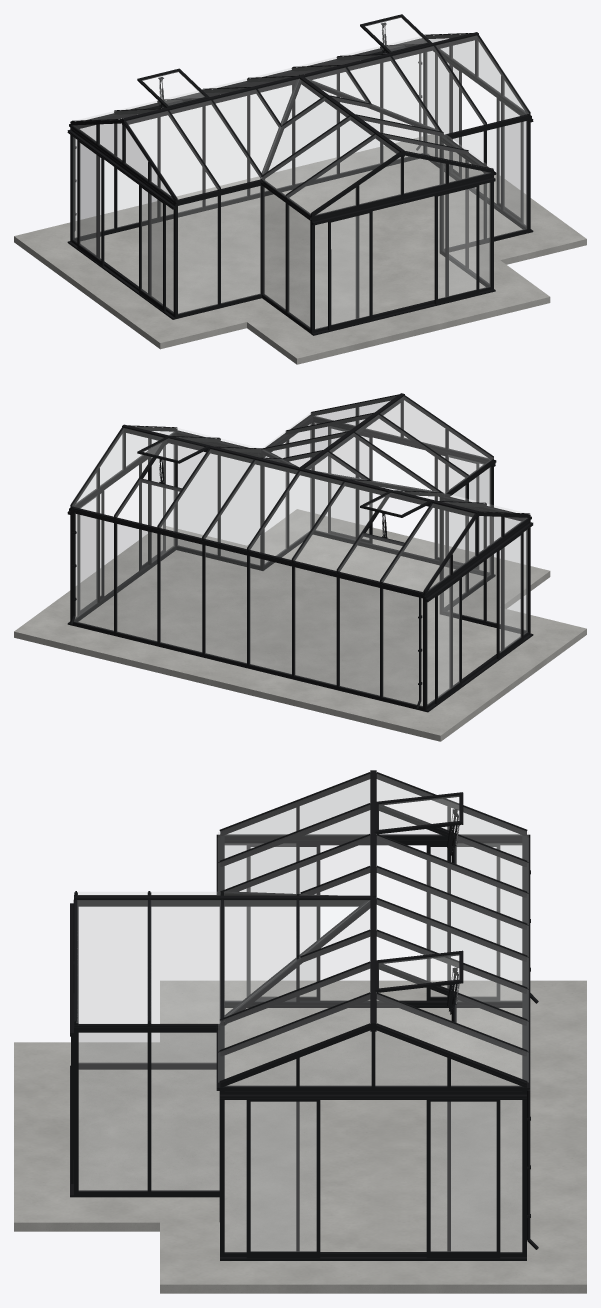
3 renders of one model, top to bottom at view 1: azimuth 30°, elevation 25°; view 2: azimuth 150°, elevation 25°; view 3: azimuth 270°, elevation 25°, orthographic. The views are drawn at different scales.
Parts seen in each view (by area): view 1: scandiglas-t252; view 2: scandiglas-t252; view 3: scandiglas-t252.
Boxes of the visible parts, bbox=[...] form: scandiglas-t252: bbox=[14, 14, 586, 364]; scandiglas-t252: bbox=[14, 393, 586, 741]; scandiglas-t252: bbox=[14, 770, 586, 1293].
Bounding box in the file's own units: 7.38 × 2.89 × 5.88.
Materials: 5 (1 with a texture image).
